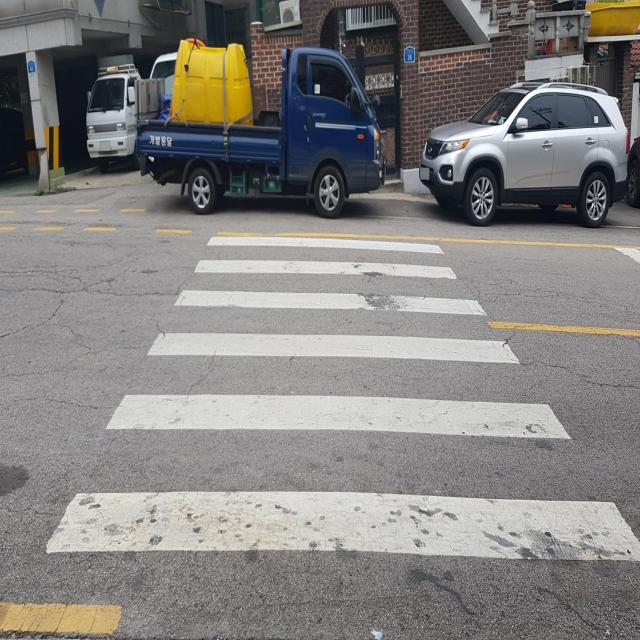횡단보도: (46, 234, 640, 562)
